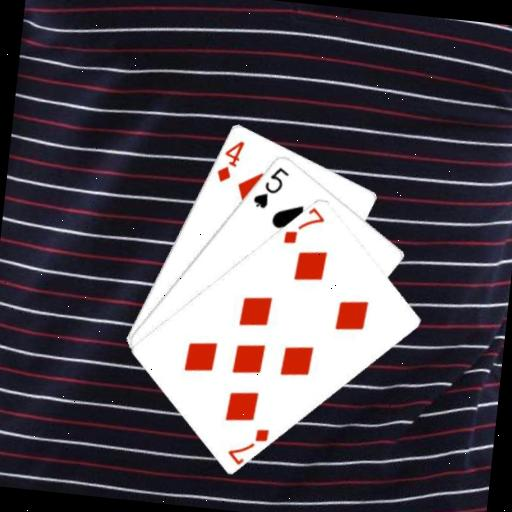4D: (213, 135, 247, 185)
5S: (250, 161, 292, 212)
7D: (280, 202, 328, 249), (224, 421, 272, 467)
